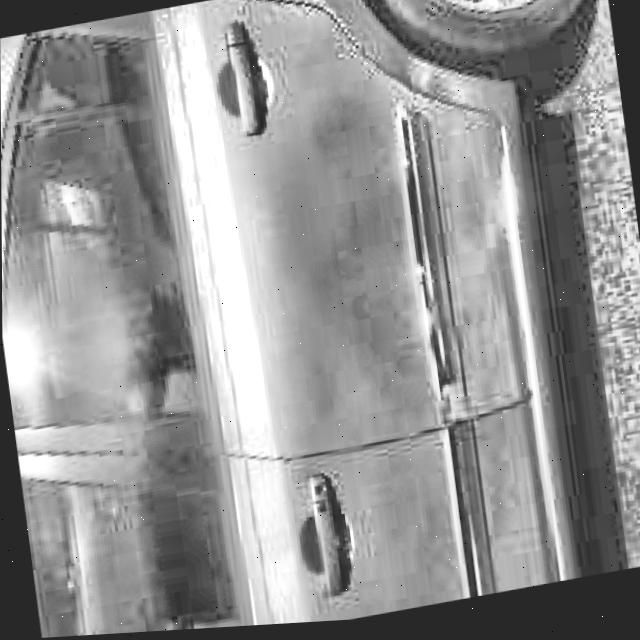door_dent: (309, 130, 507, 327)
door_scratch: (385, 87, 487, 604)
